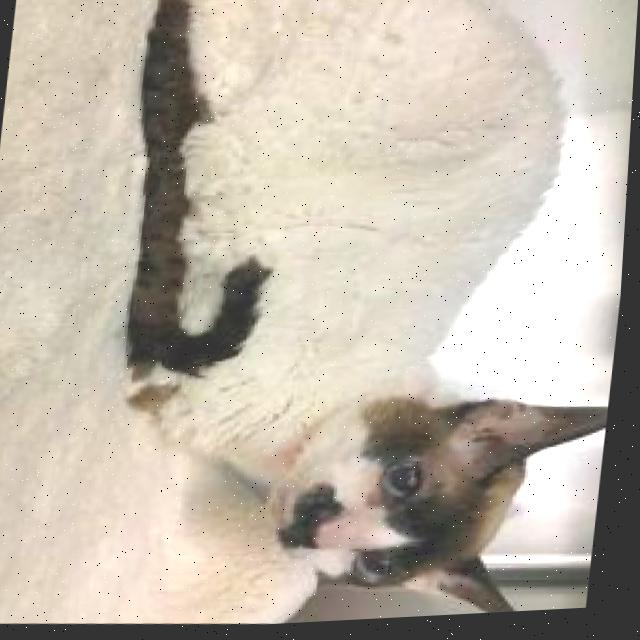Cornish Rex: (86, 0, 640, 635)
